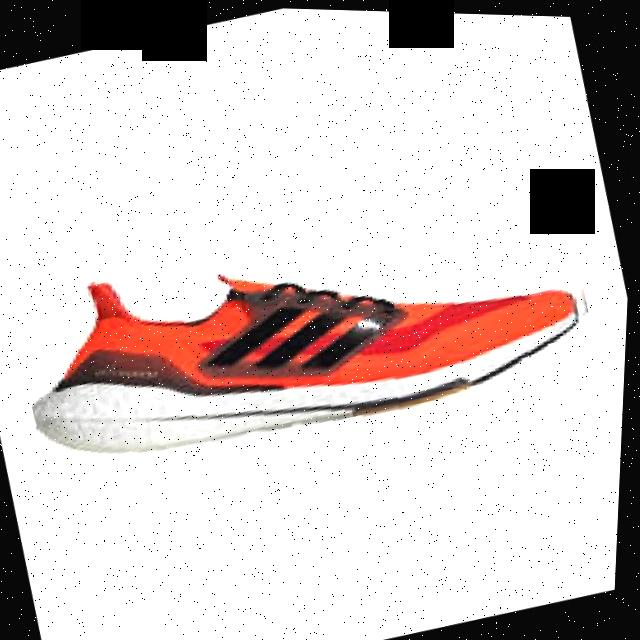shoe: (7, 162, 617, 499)
